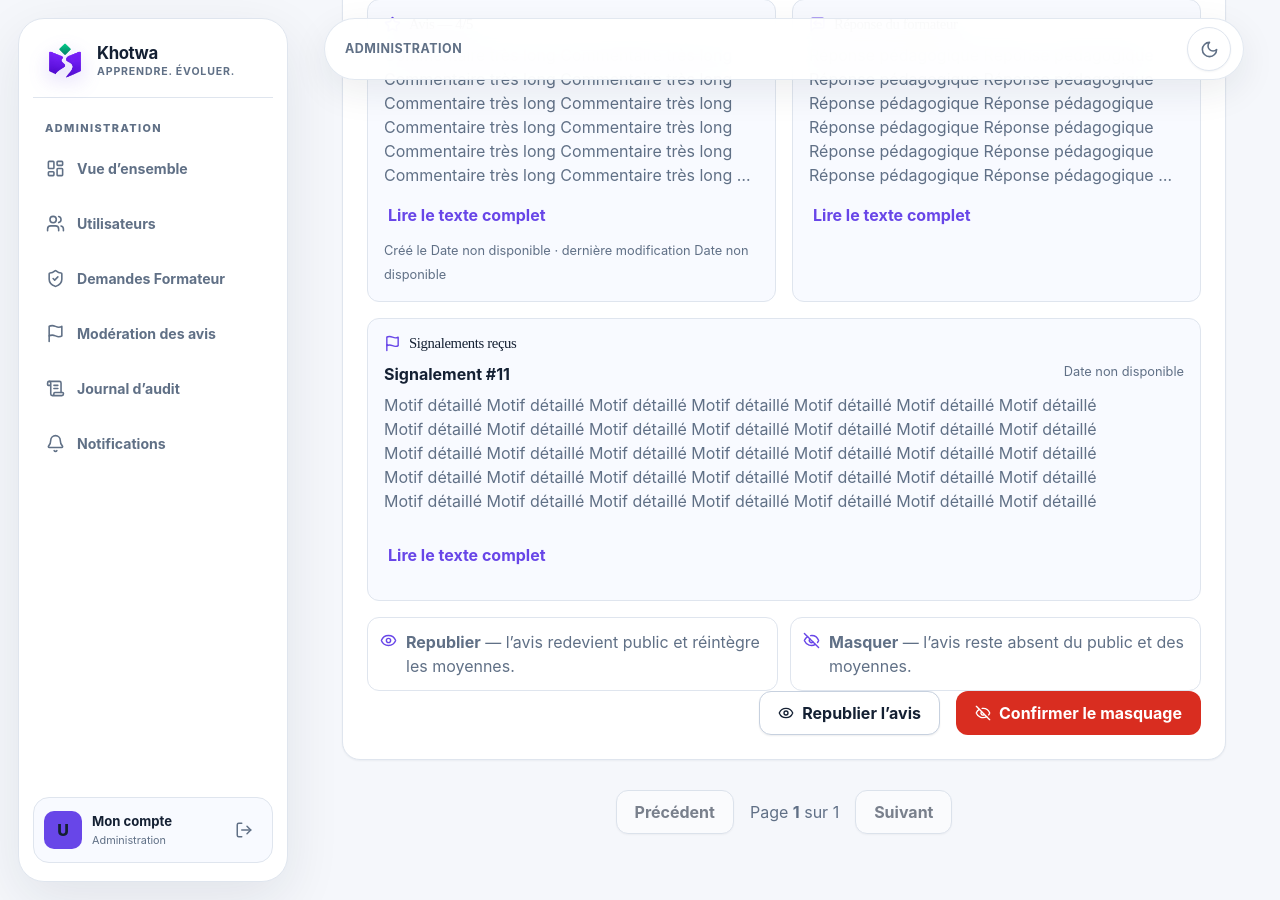
Test: workflow de modération Admin › gère Échap et restaure le focus sur l’action d’origine
The width and height of the screenshot is (1280, 900).
(page scrolled)
Step 1. Click the button "Confirmer le masquage" → (1078, 714), box [956,692,1201,736]
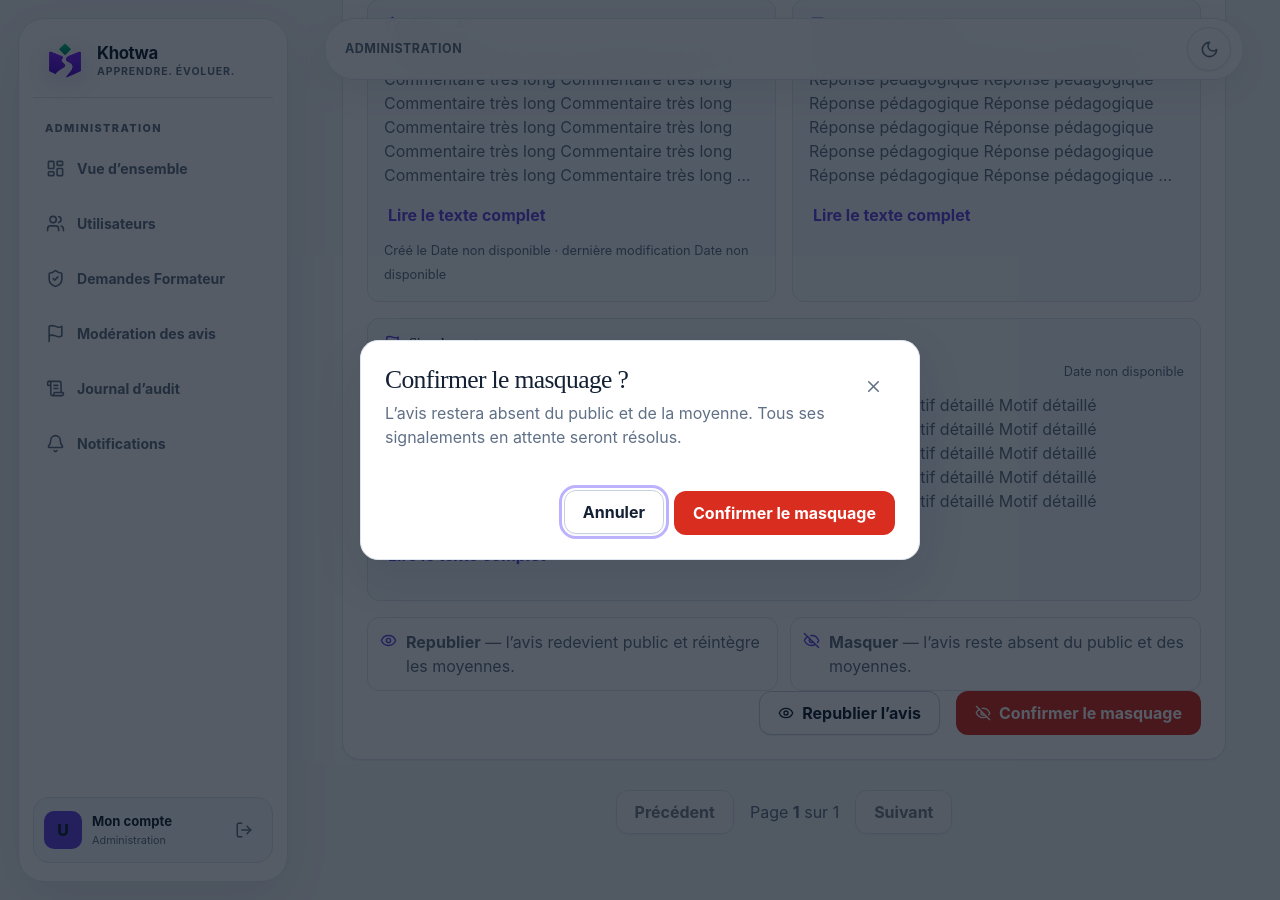
Step 2. Press Escape
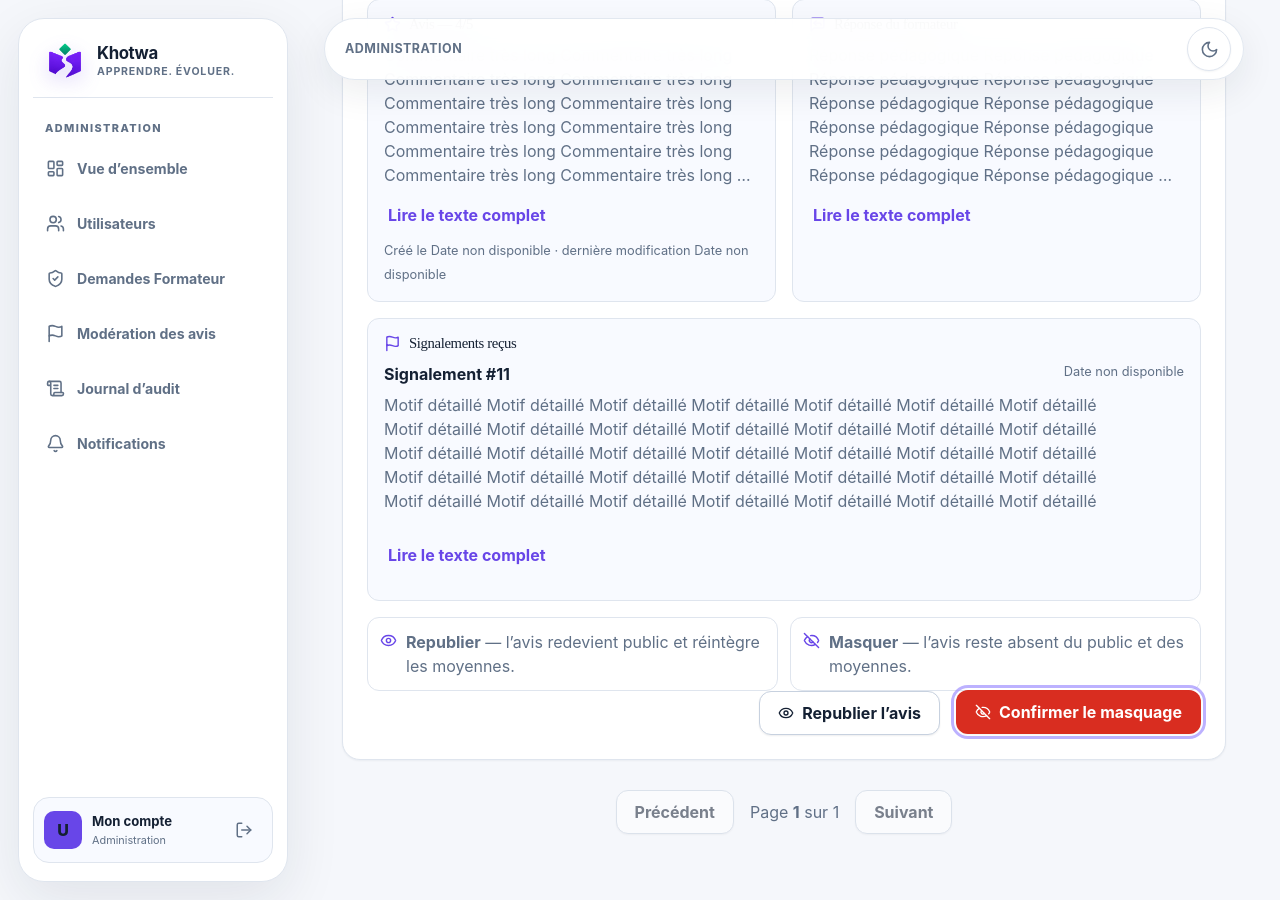
Check: the dialog is gone
